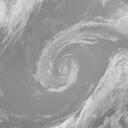cyclone: (35, 44, 80, 93)
